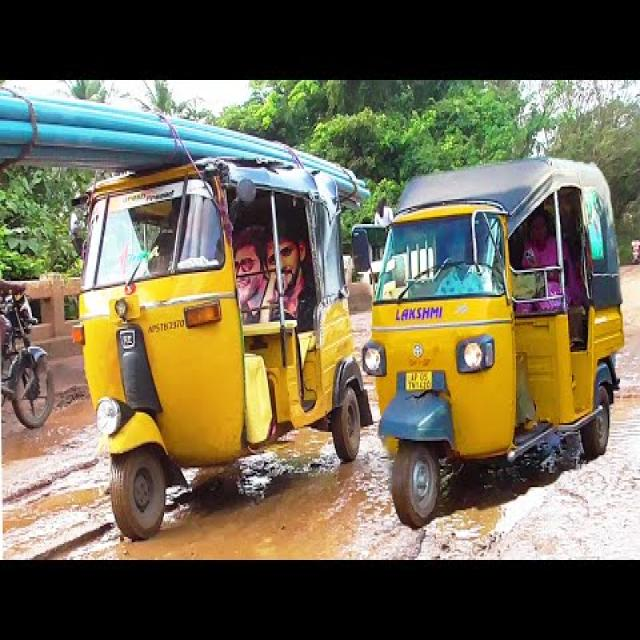autorickshaw: (79, 158, 371, 539), (362, 158, 624, 526)
